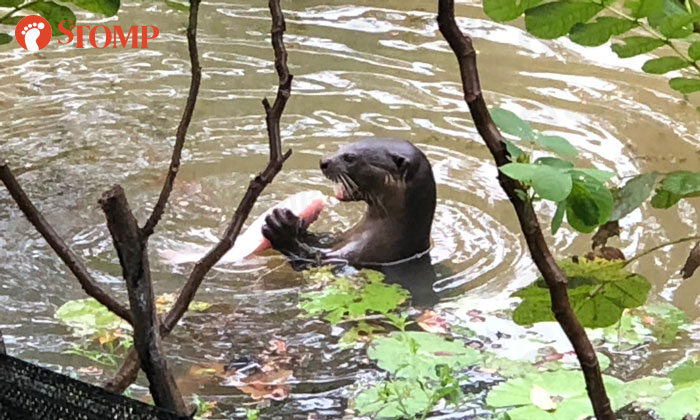otter: (258, 134, 457, 276)
